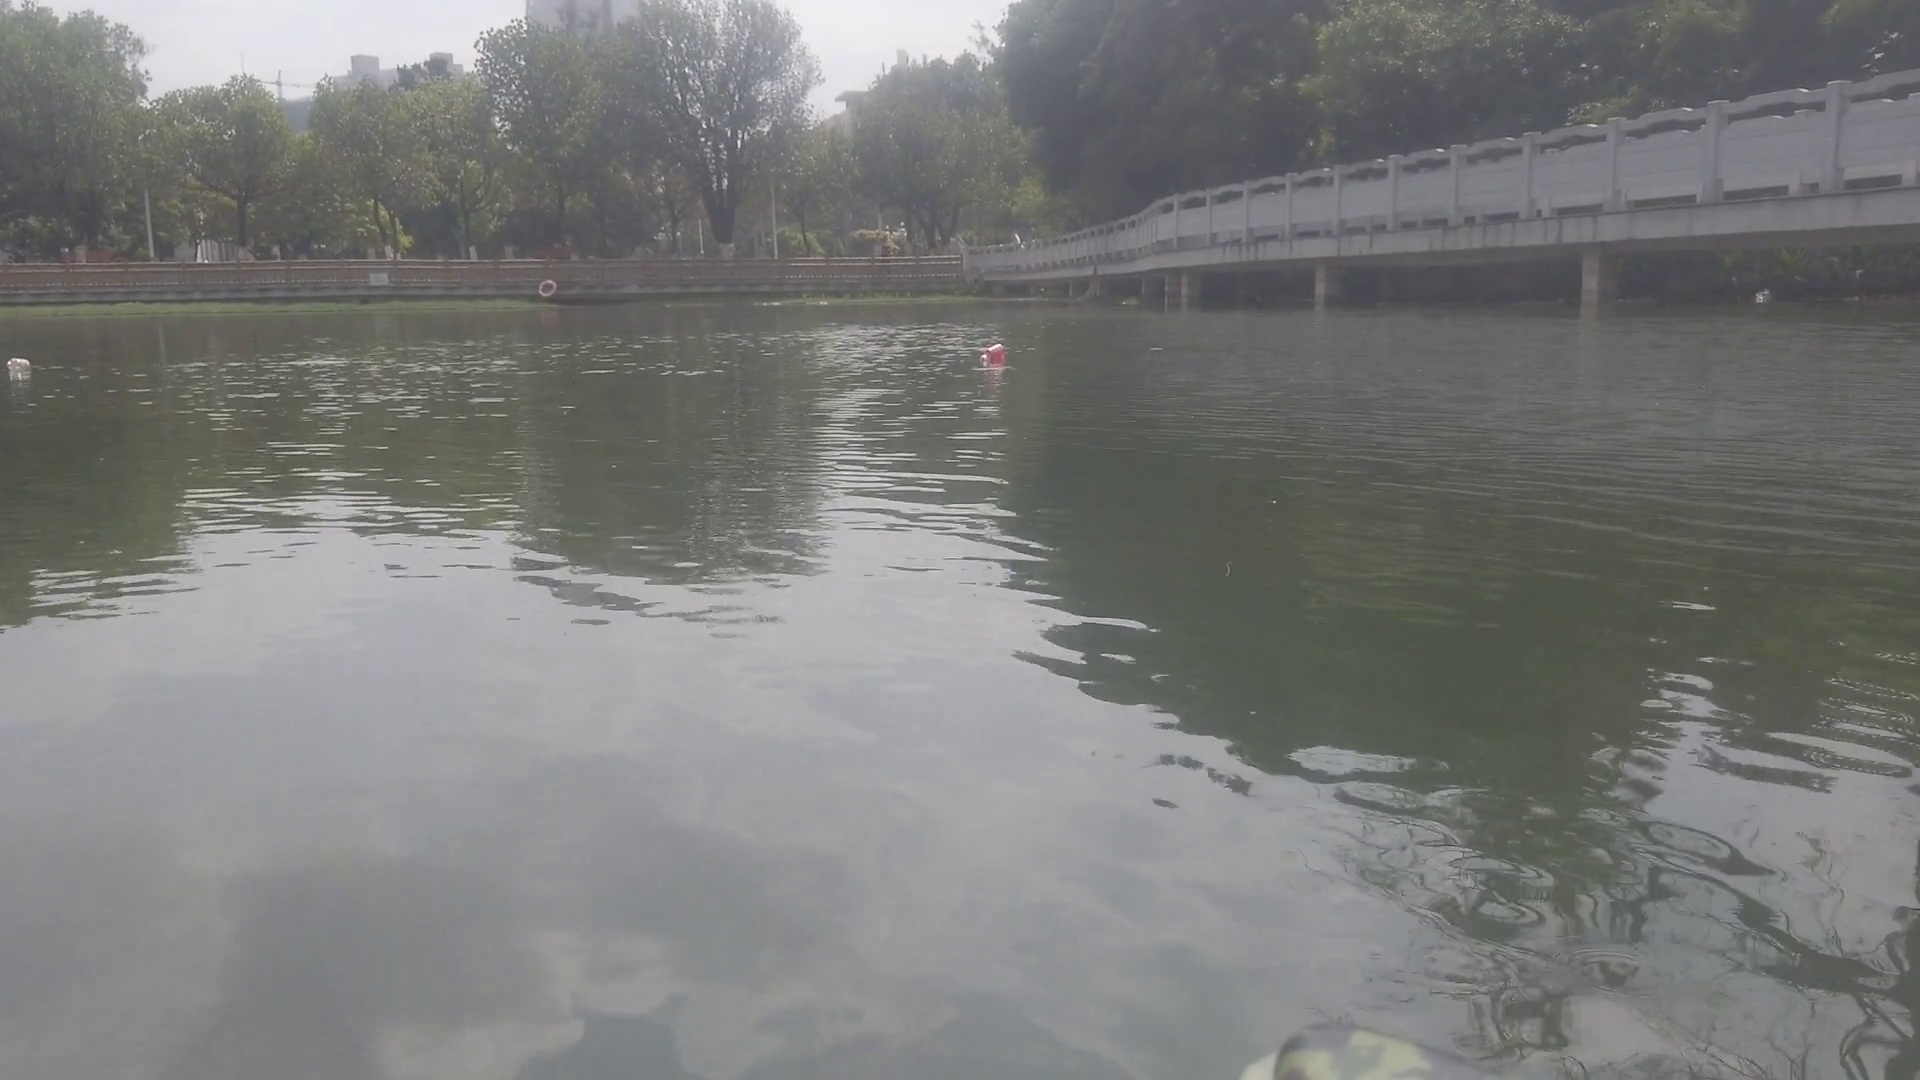bottle: (973, 339, 1017, 367), (1, 352, 40, 373)
